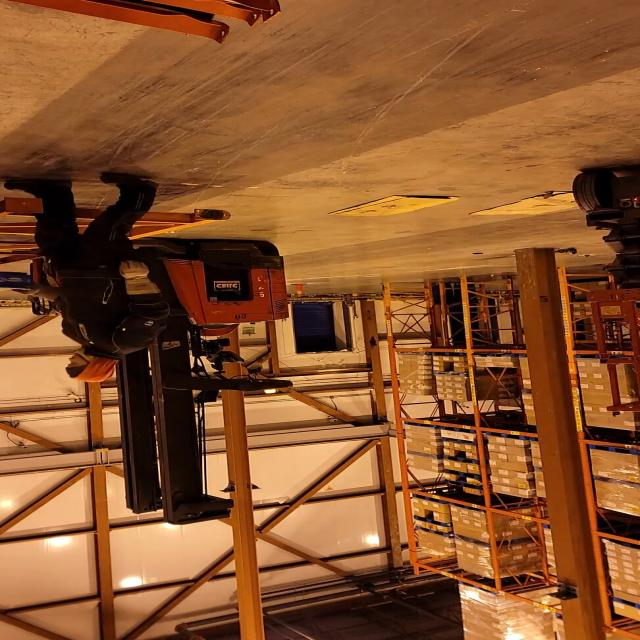forklift: (20, 232, 297, 516)
human: (7, 168, 175, 386)
objectofinterest: (0, 193, 234, 271), (466, 189, 622, 217), (326, 194, 464, 218), (0, 268, 33, 301)
